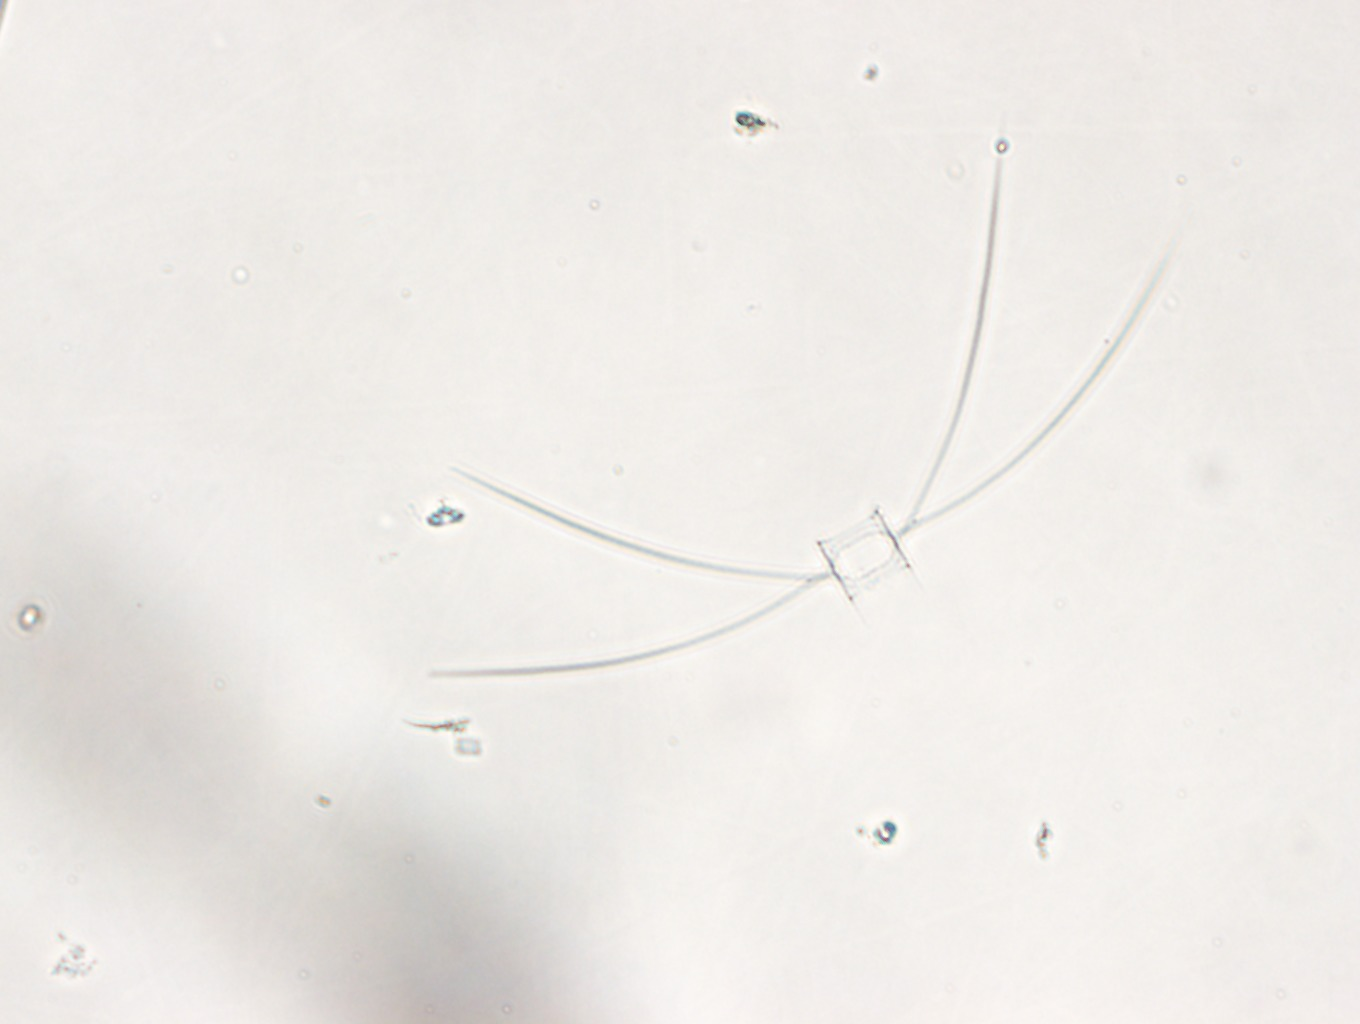chaetoceros: (429, 120, 1180, 678)
